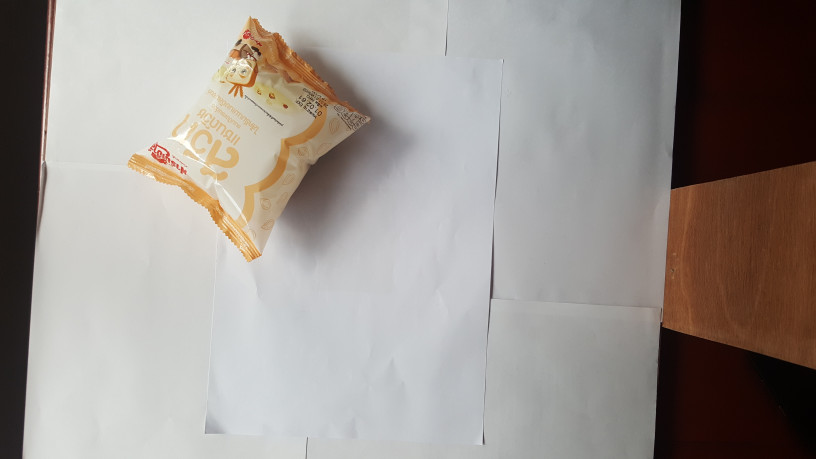farmhouse-sweetsandwich-almond: (120, 16, 376, 265)
